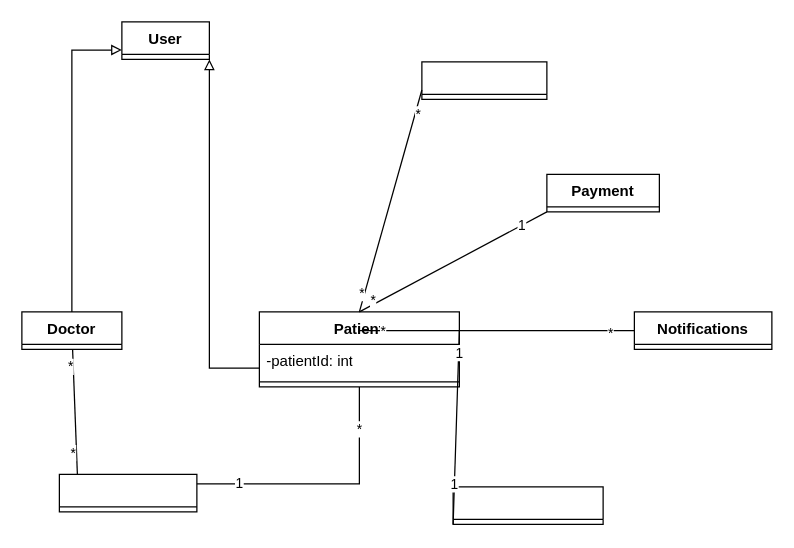
Image size: 794x548. Some labels were removed from this diagram. Each missing label, with the centre of its shape:
"Appointment" belongs at point 127,492.
"Medical record" belongs at point 527,505.
"Prescription" belongs at point 484,80.
